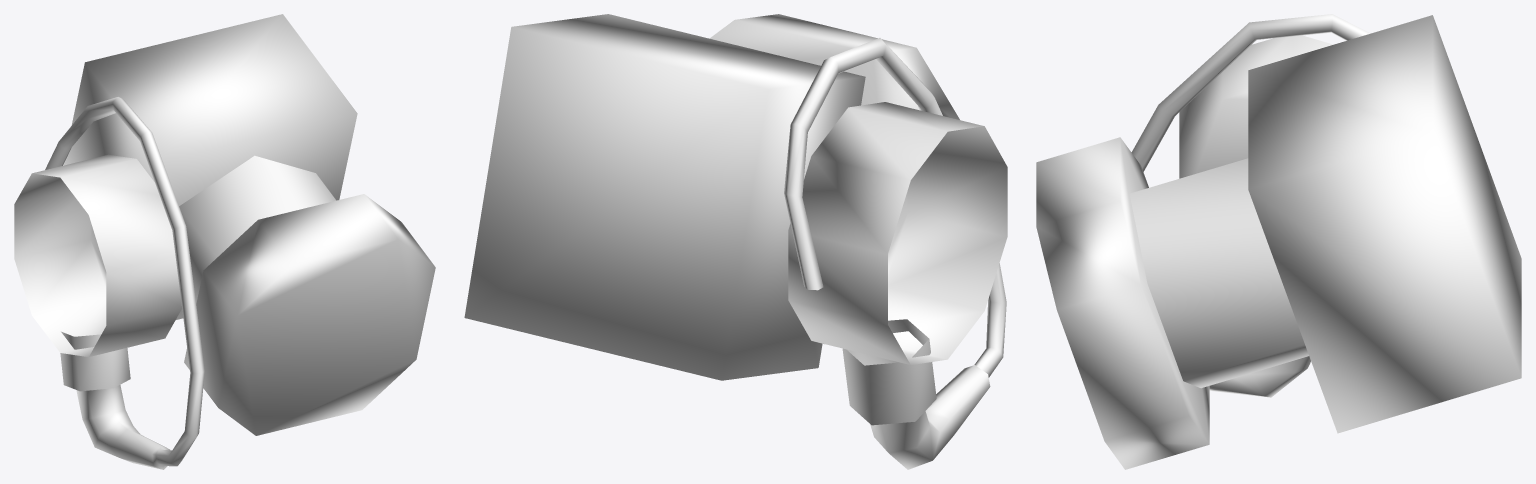
Rendered from head_camera.obj.
The picture shows the model from 3 angles, left to right: view 1: azimuth 30°, elevation 25°; view 2: azimuth 150°, elevation 25°; view 3: azimuth 270°, elevation 25°; orthographic projection. The views are drawn at different scales.
Bounding box in the file's own units: 0.083 × 0.0936 × 0.101.
